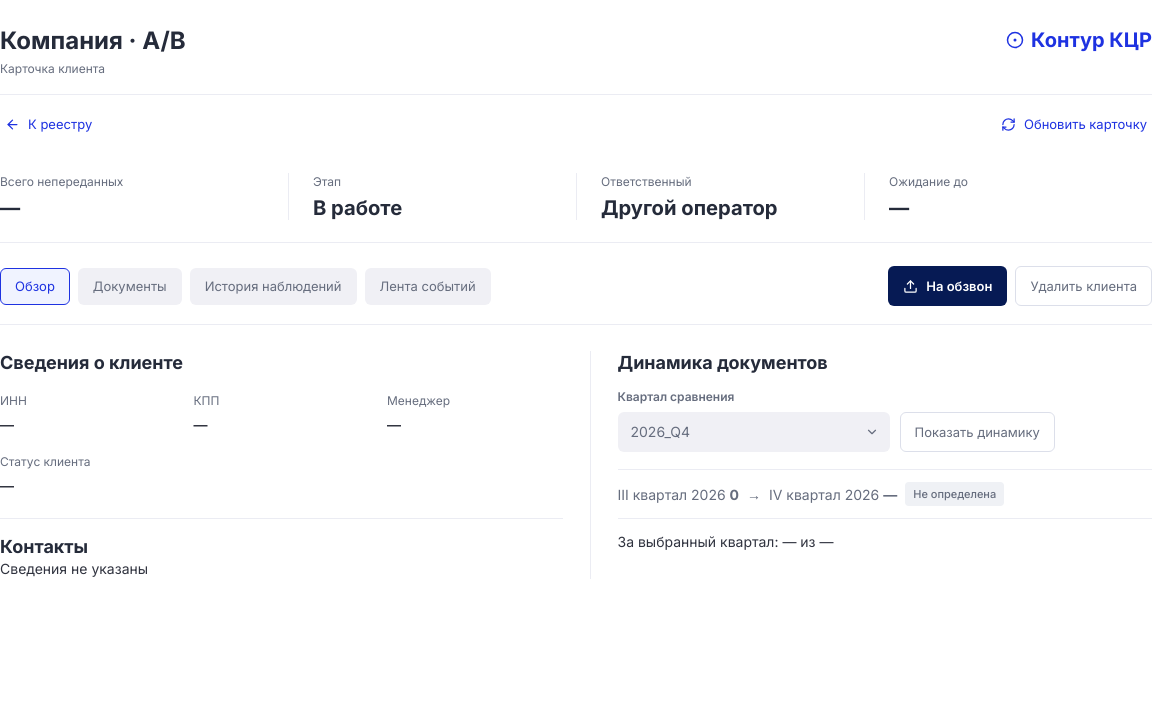
Scenario: publishes a single client from the card
The width and height of the screenshot is (1152, 720).
Click the button "На обзвон": (948, 286) [888, 266, 1008, 306]
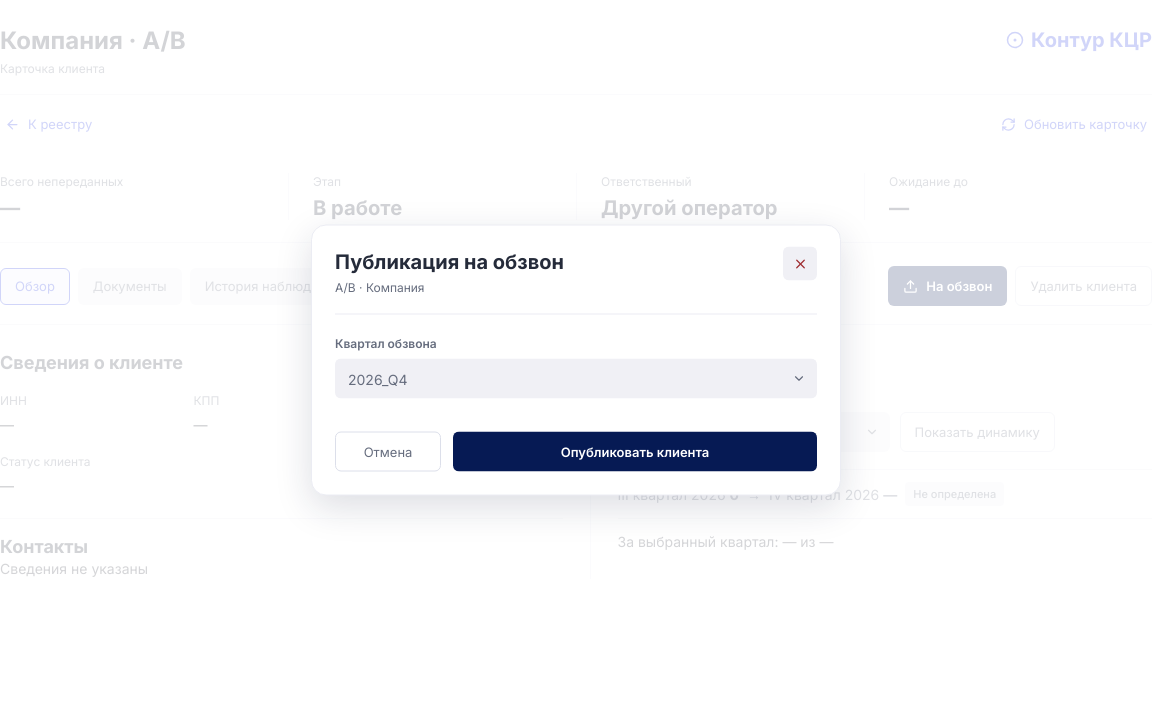
In the dropdown labelled "Квартал обзвона": (558, 378) [335, 358, 781, 398], type "2026_Q3"
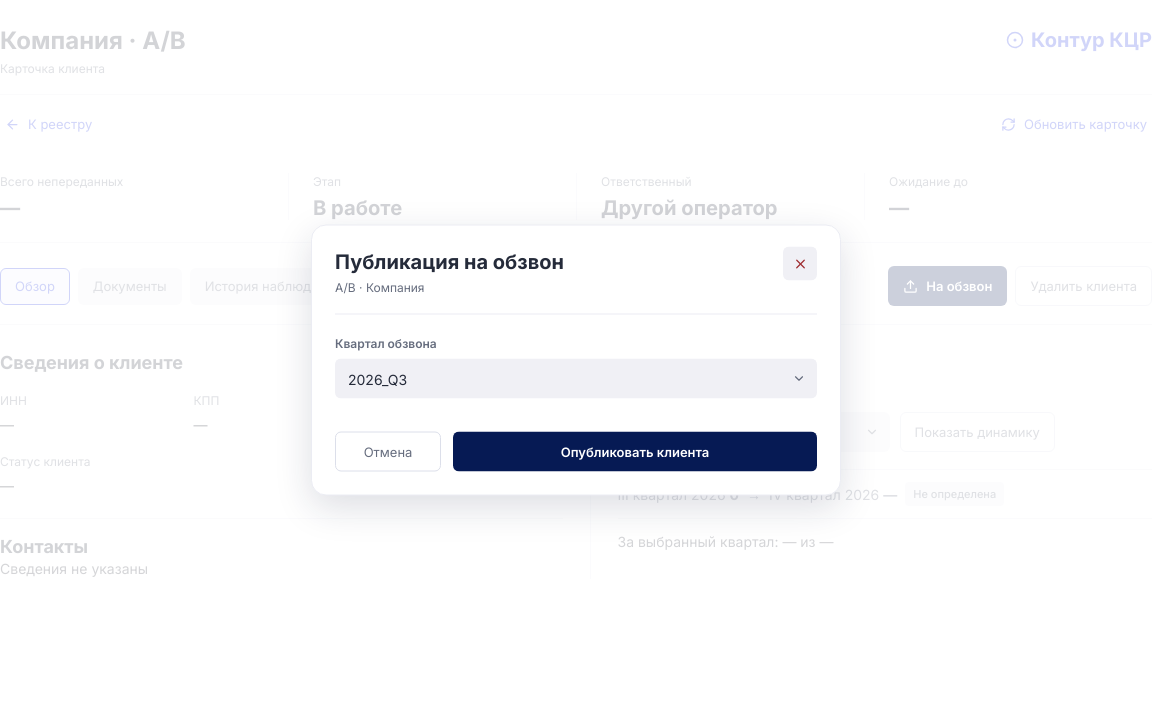
Click the button "Опубликовать клиента": (635, 452) [453, 432, 817, 472]
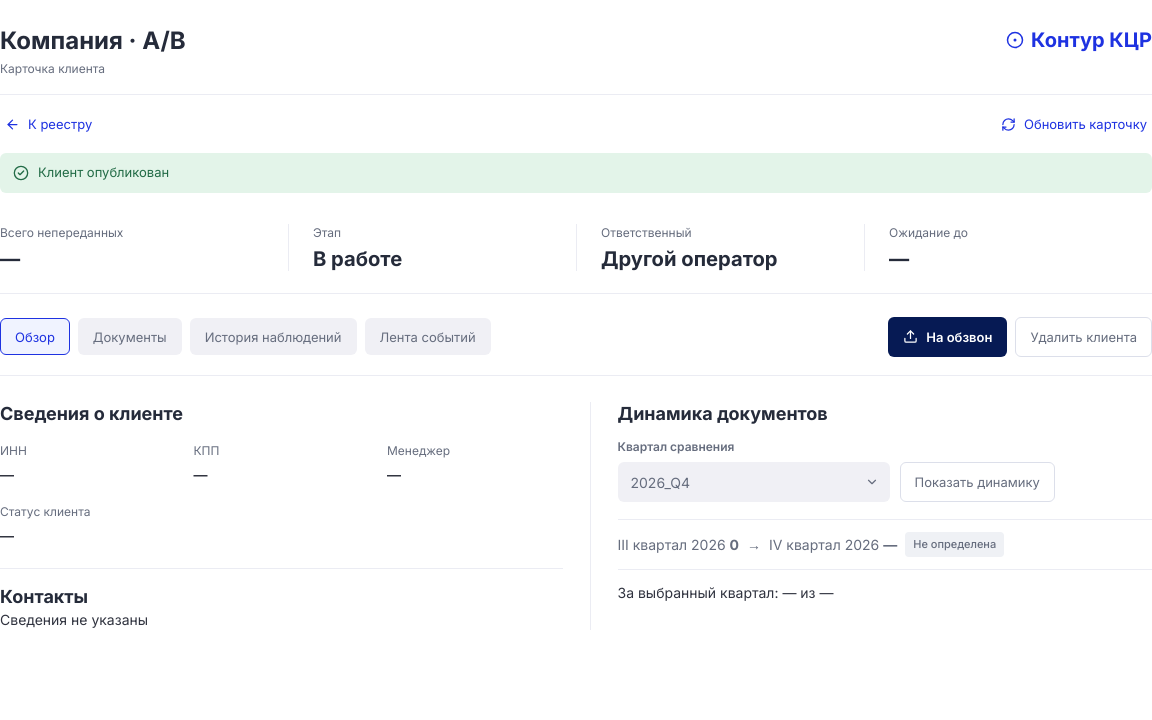
Check: the text "Клиент опубликован" is shown, box [0, 153, 1151, 193]
